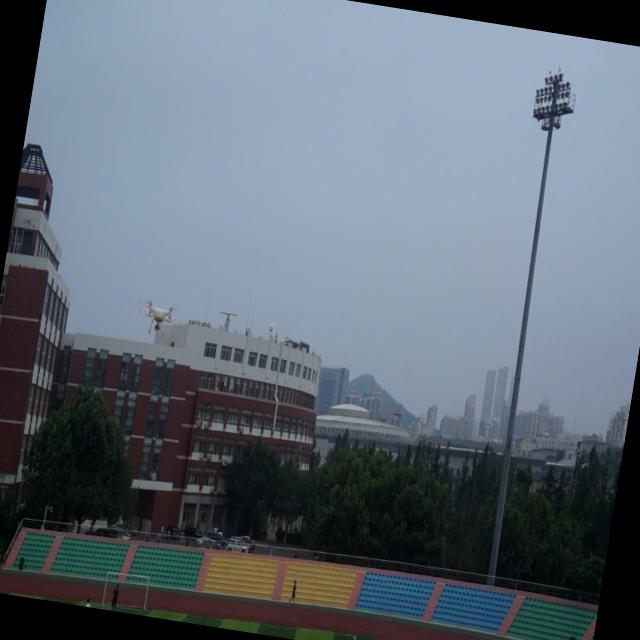drone: (142, 299, 174, 337)
